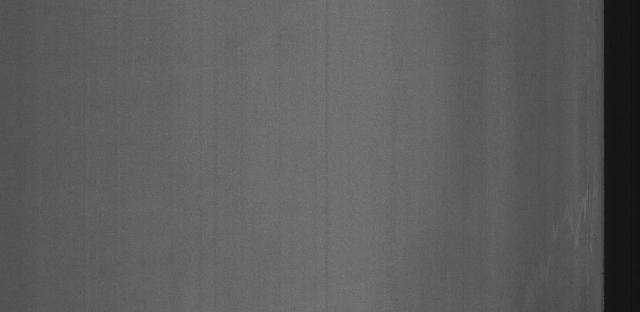silk_spot: (543, 161, 599, 260)
